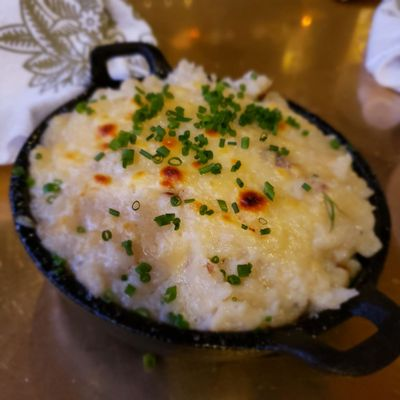curry: (238, 102, 283, 134)
